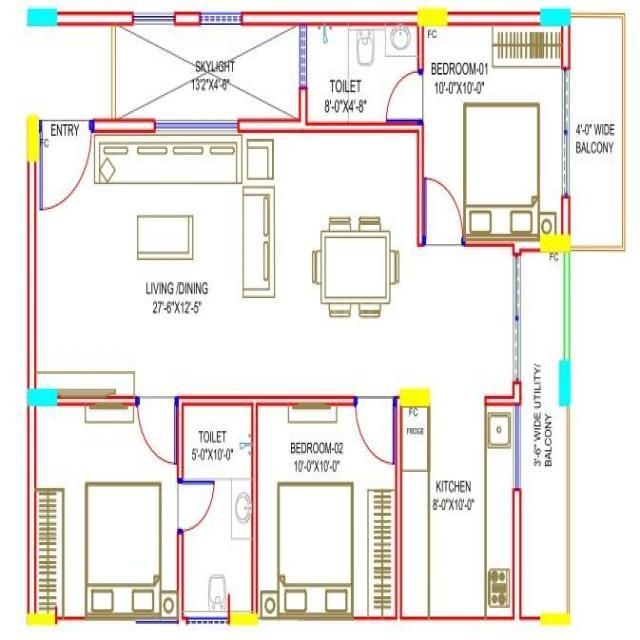Balcony-Sitout: (568, 9, 624, 251)
Bedroom: (416, 10, 569, 251), (254, 400, 398, 623)
Bedroom with Toilet: (26, 397, 254, 623)
Dining: (308, 214, 401, 322)
Enterance-Foyer: (35, 101, 93, 222)
Kitchen: (399, 397, 519, 625)
Living: (29, 119, 274, 397)
Toilet: (301, 12, 423, 127)
Utility: (513, 249, 570, 628)
